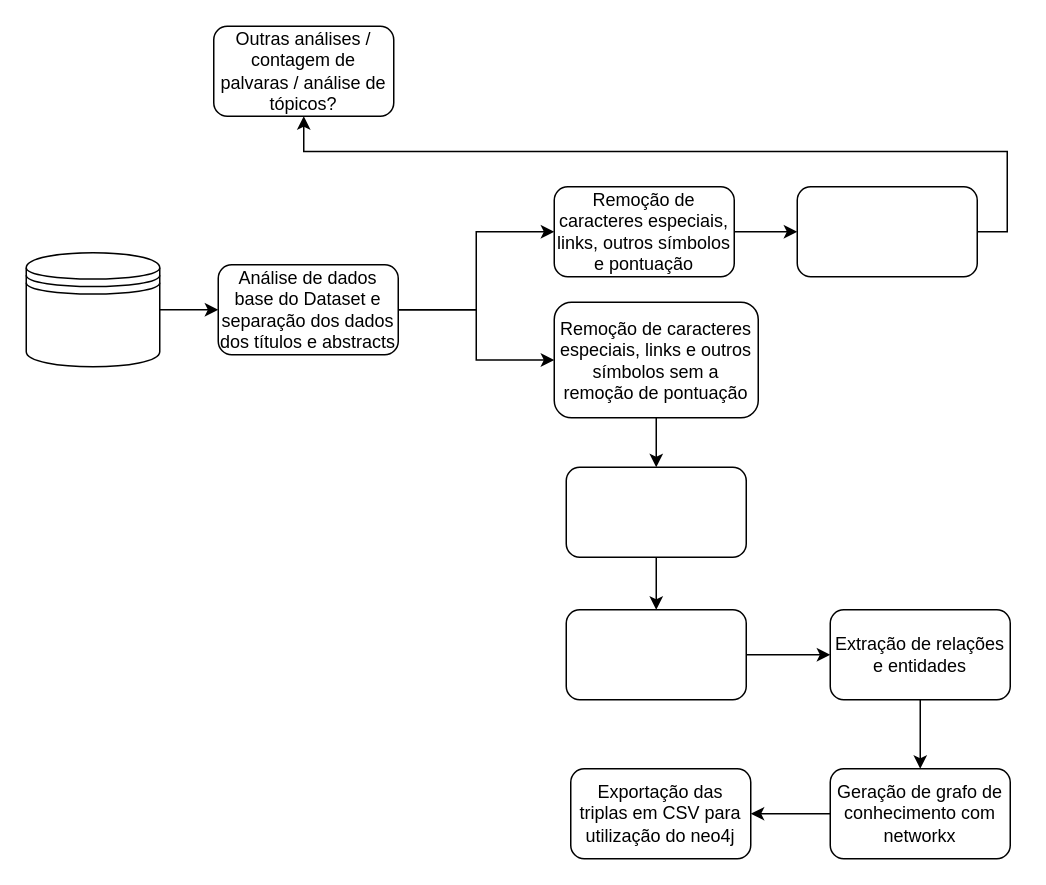
Some shapes in this 1046 by 885 pixel diagram are drawn without their labels. Each missing label, with the centre of its shape:
"Análise sintática das sentenças com Spacy" goes at pixel 655 654.
"CORD-19" goes at pixel 92 309.
"Remoção de Stopwords em inglês com nltk" goes at pixel 886 231.
"Separando textos em sentenças com nltk" goes at pixel 655 511.
